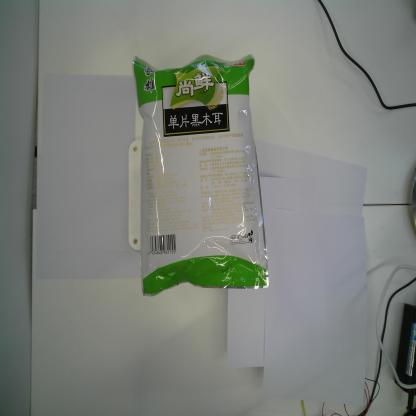Dried Food: (132, 55, 269, 297)
